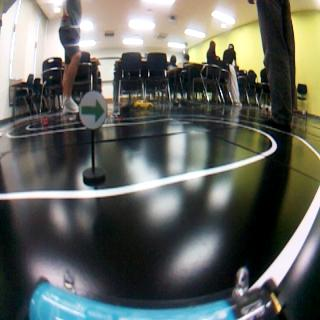right: (78, 89, 109, 128)
